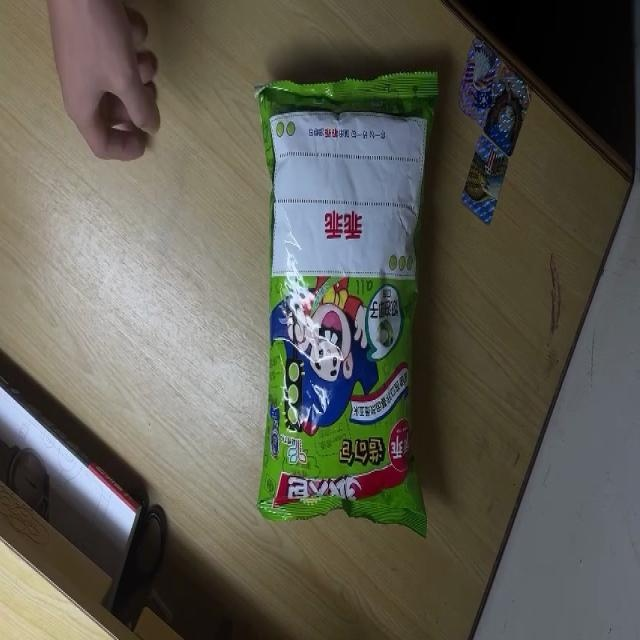Good-Luck: (255, 72, 439, 539)
